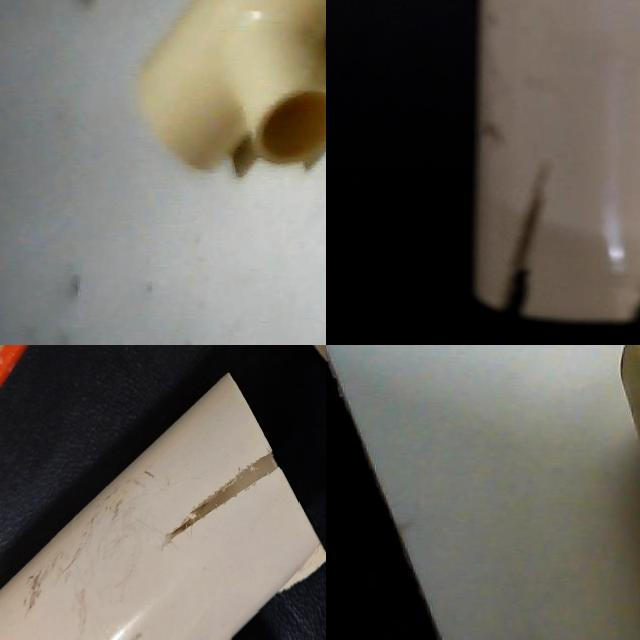Defective: (20, 345, 122, 470), (493, 160, 562, 322), (238, 456, 300, 611), (309, 391, 326, 457)
T Joint: (175, 371, 326, 640), (6, 345, 178, 468)
